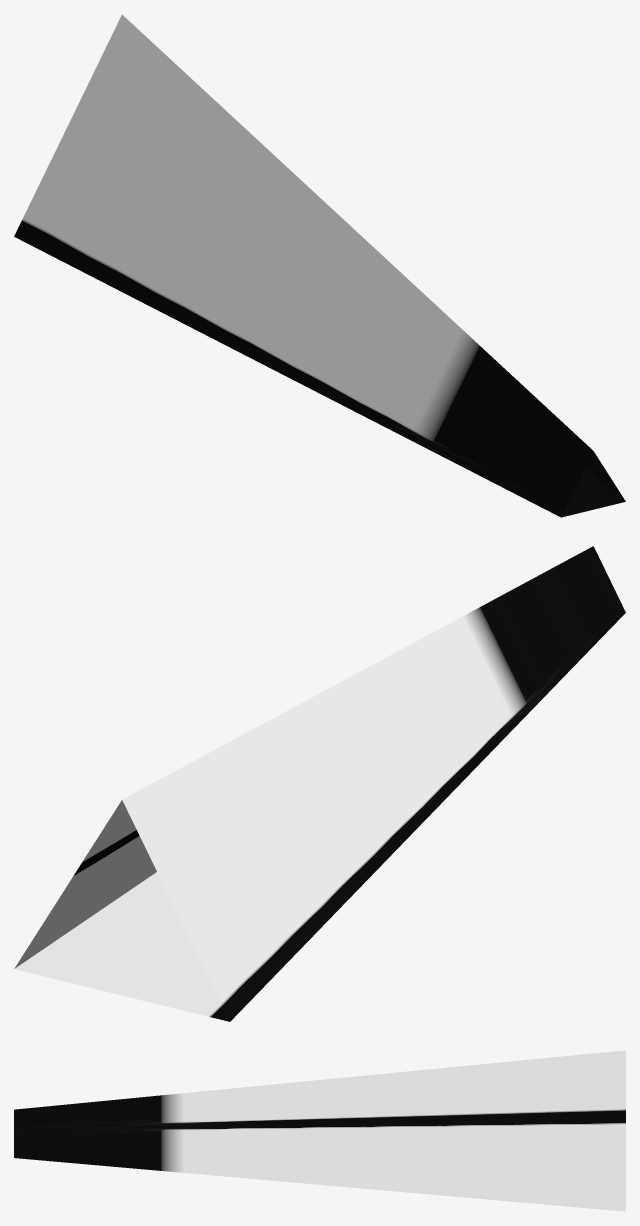
The model's file is Environment_scale.fbx.
The picture shows the model from 3 angles, top to bottom: view 1: azimuth 30°, elevation 25°; view 2: azimuth 150°, elevation 25°; view 3: azimuth 270°, elevation 25°; orthographic projection. The views are drawn at different scales.
Visible parts, largest first — view 1: Environment_scale; view 2: Environment_scale; view 3: Environment_scale.
Boxes of the visible parts, bbox=[...] form: Environment_scale: bbox=[14, 14, 625, 517]; Environment_scale: bbox=[14, 546, 625, 1021]; Environment_scale: bbox=[14, 1050, 625, 1211].
Size of the model in its own units: 173 by 150 by 654.
